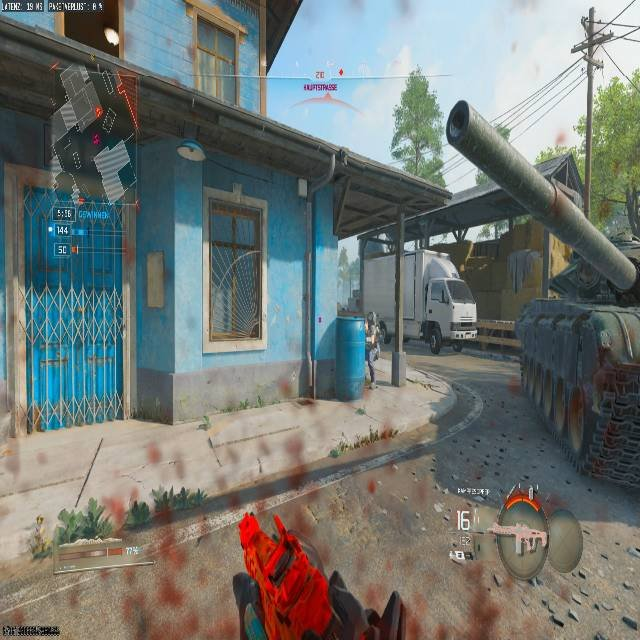head: (489, 500, 550, 579)
player: (361, 317, 391, 381), (196, 414, 211, 432)
